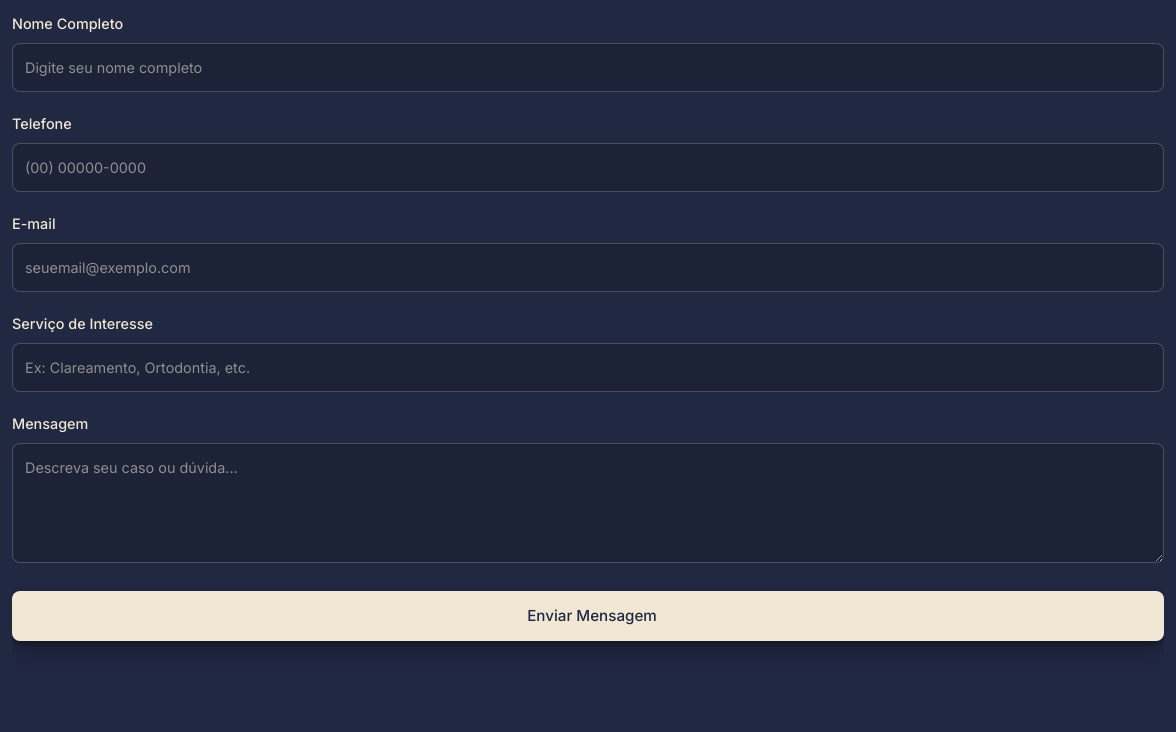
Test: ContactForm › mostra sucesso e limpa o formulário após enviar
Type "Maria Silva" into the field labelled "Nome Completo" at (588, 68), box [12,43,1164,92]
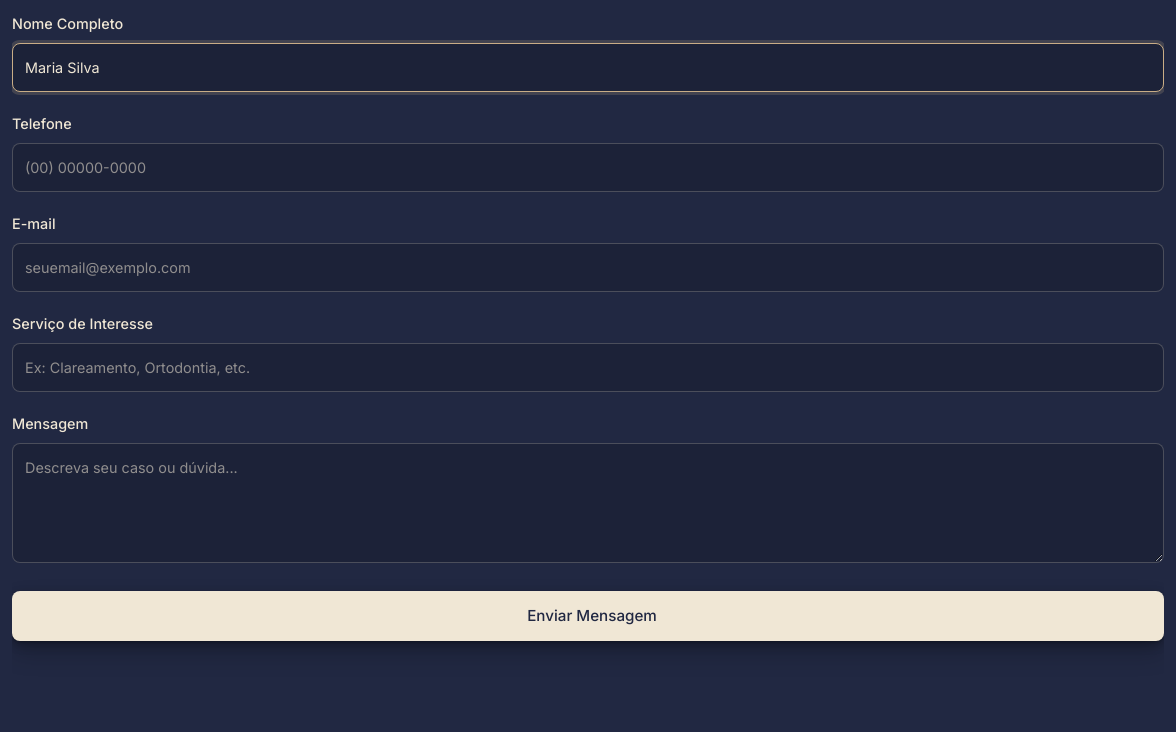
Type "11987654321" into the field labelled "Telefone" at (588, 168), box [12,143,1164,192]
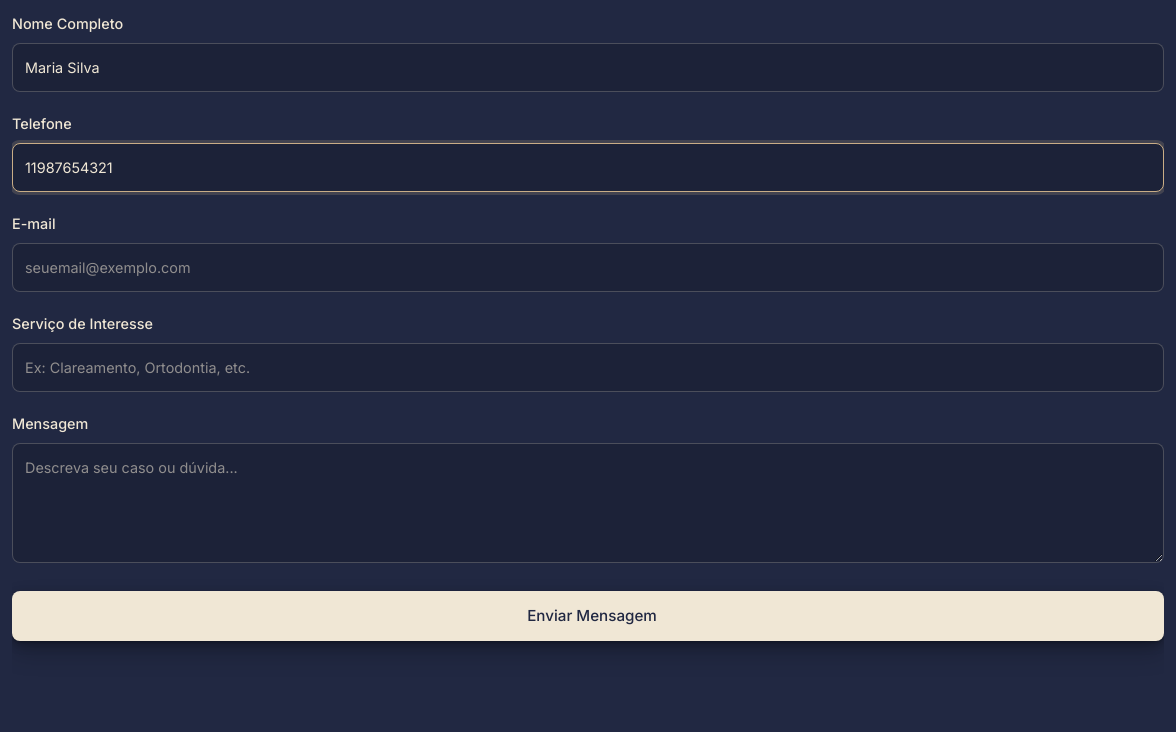
Type "maria@exemplo.com" into the field labelled "E-mail" at (588, 268), box [12,243,1164,292]
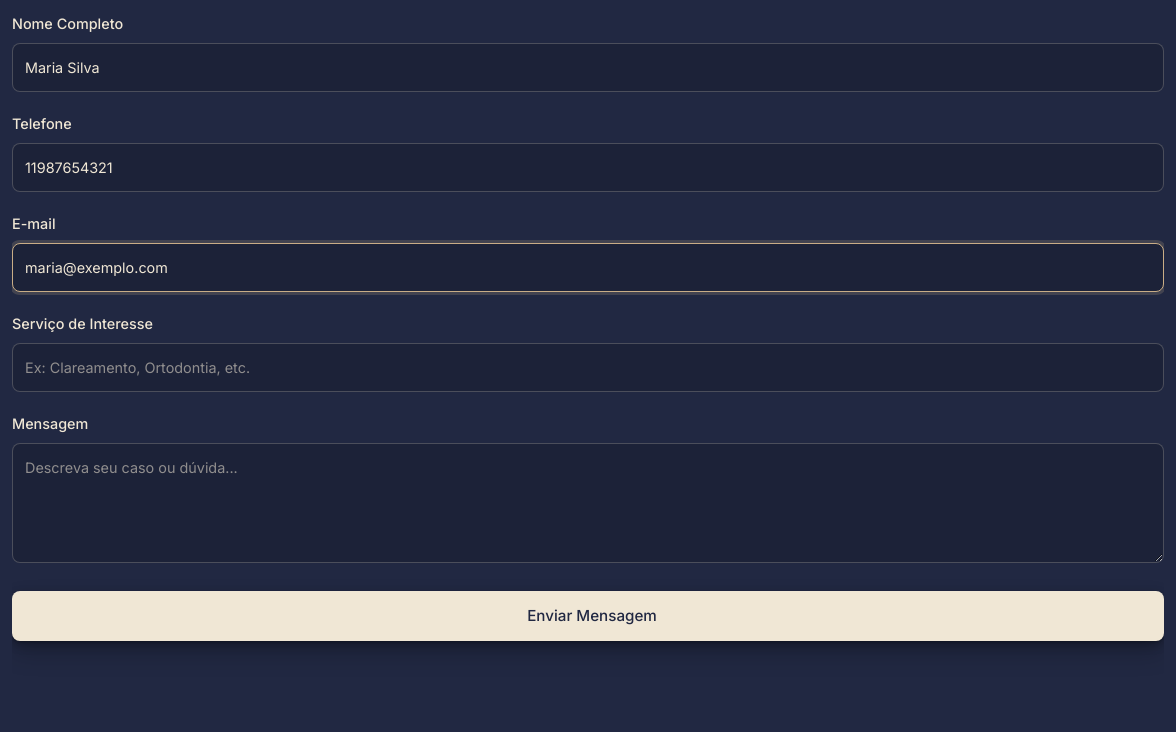
Type "Quero agendar." into the text box labelled "Mensagem" at (588, 503), box [12,443,1164,563]
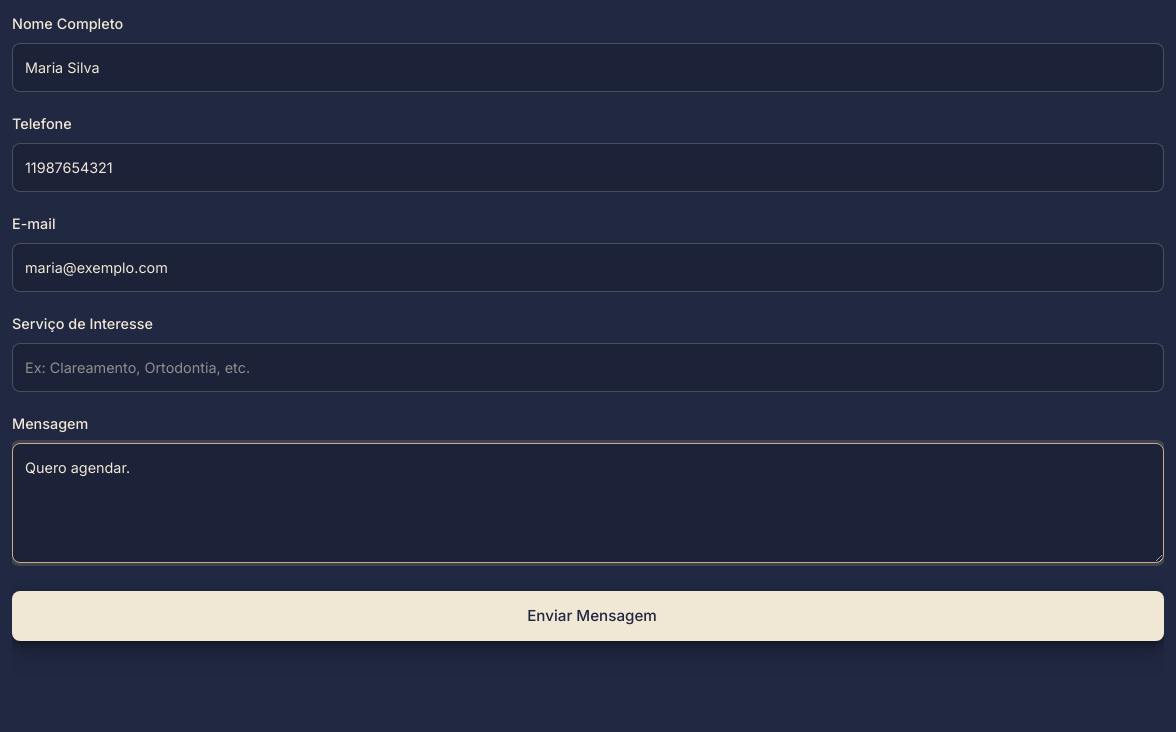
Click the button "Enviar Mensagem" at (588, 616), box [12,591,1164,641]
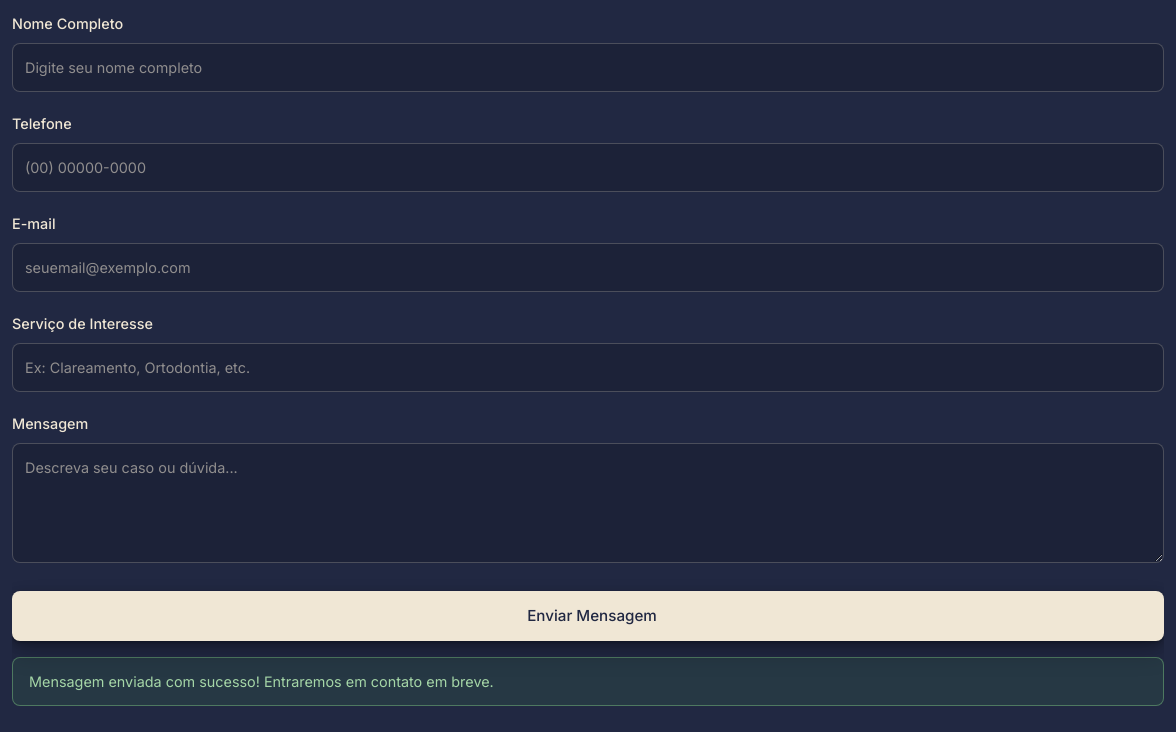
expect the message shows "enviada com sucesso": met, box [29,673,494,690]
expect the field labelled "Nome Completo" is empty: met, box [12,43,1164,92]
